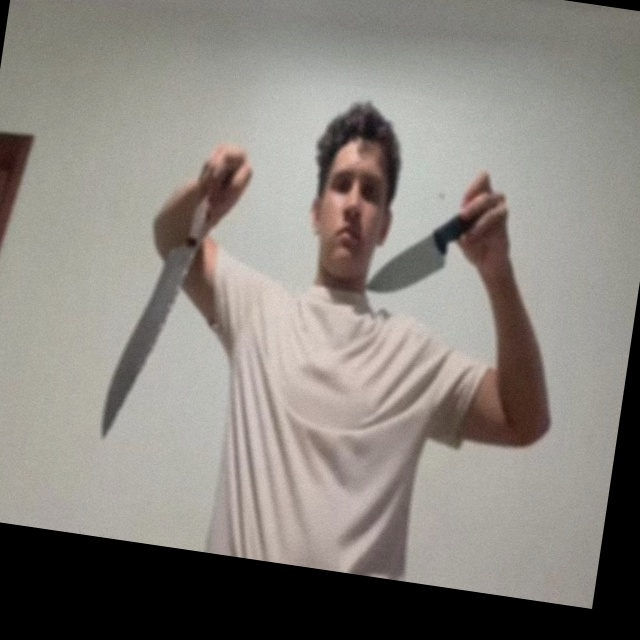Sharp-Object: (98, 231, 200, 451), (366, 220, 450, 298)
